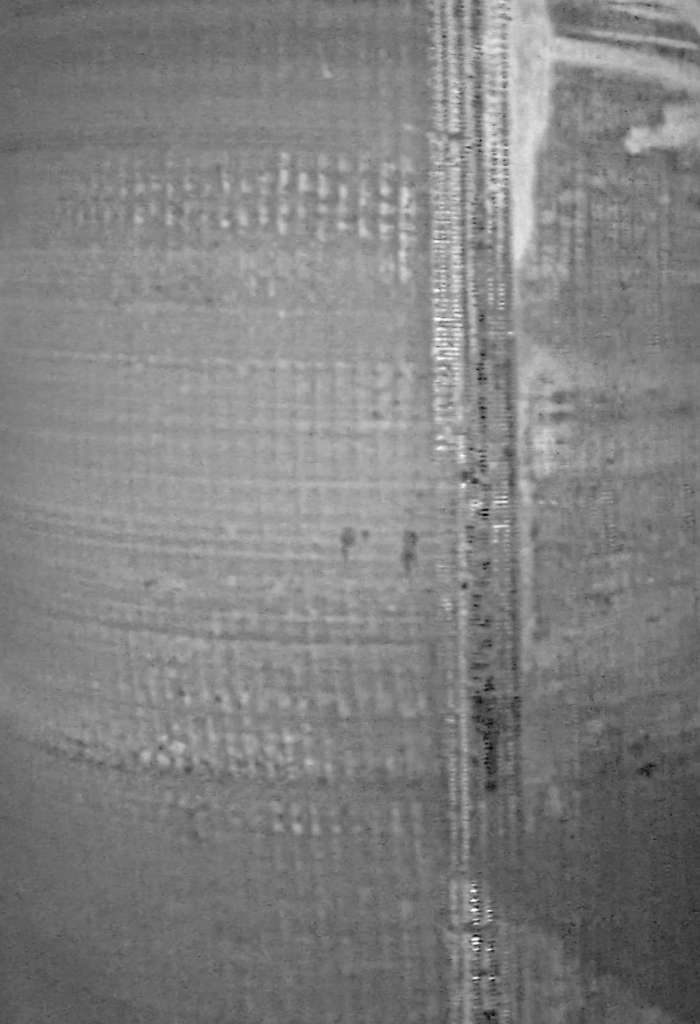splice: (413, 1, 527, 1024)
